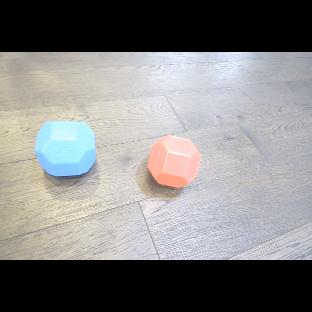V5_BLUE: (35, 121, 96, 179)
V5_RED: (148, 134, 202, 188)
